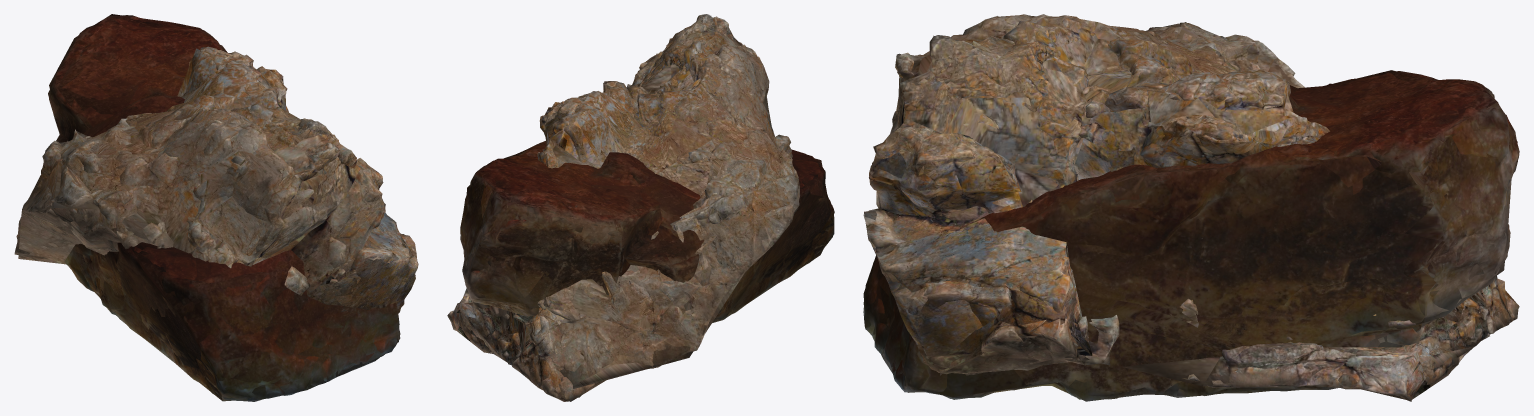
Rendered from rochas-escaneadas.glb.
3 renders of one model, left to right at view 1: azimuth 30°, elevation 25°; view 2: azimuth 150°, elevation 25°; view 3: azimuth 270°, elevation 25°, orthographic. The views are drawn at different scales.
Visible parts, largest first — view 1: rocha_v0_near, rocha_v1_near, rocha_v0_far, rocha_v0_mid, rocha_v1_mid, rocha_v1_far; view 2: rocha_v0_near, rocha_v0_mid, rocha_v1_near, rocha_v0_far, rocha_v1_mid, rocha_v1_far; view 3: rocha_v1_near, rocha_v0_near, rocha_v0_mid, rocha_v1_mid, rocha_v0_far, rocha_v1_far.
Part boxes in pixels (x1,y1,x2,y2): rocha_v0_near: (14, 46, 418, 313); rocha_v1_near: (41, 15, 400, 400); rocha_v0_far: (18, 48, 413, 309); rocha_v0_mid: (16, 51, 417, 308); rocha_v1_mid: (48, 15, 400, 401); rocha_v1_far: (49, 14, 398, 401); rocha_v0_near: (447, 14, 800, 401); rocha_v0_mid: (451, 15, 799, 401); rocha_v1_near: (460, 141, 834, 321); rocha_v0_far: (456, 30, 799, 388); rocha_v1_mid: (460, 144, 834, 321); rocha_v1_far: (464, 148, 833, 322); rocha_v1_near: (863, 72, 1518, 399); rocha_v0_near: (863, 14, 1518, 401); rocha_v0_mid: (864, 15, 1519, 399); rocha_v1_mid: (863, 71, 1519, 399); rocha_v0_far: (872, 18, 1486, 396); rocha_v1_far: (865, 70, 1517, 401).
Size of the model in its own units: 0.6971 by 0.5493 by 1.
2 materials, 2 textured.
